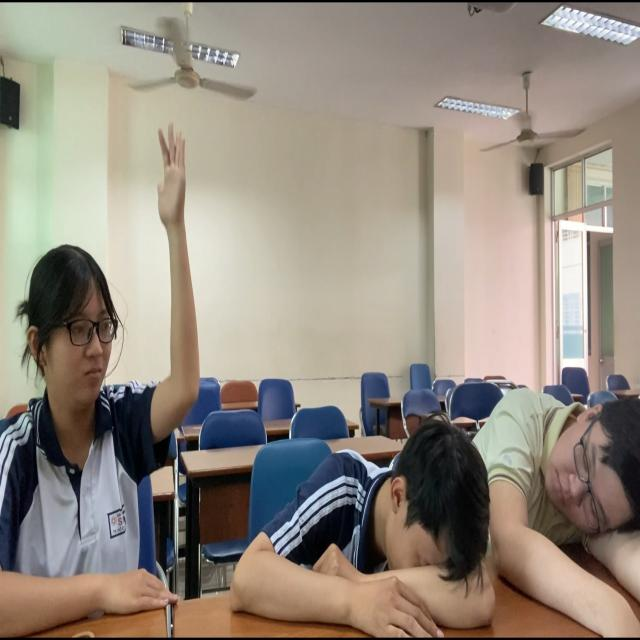raise_hand: (1, 121, 202, 640)
sleep: (229, 419, 494, 640), (498, 389, 640, 640)
